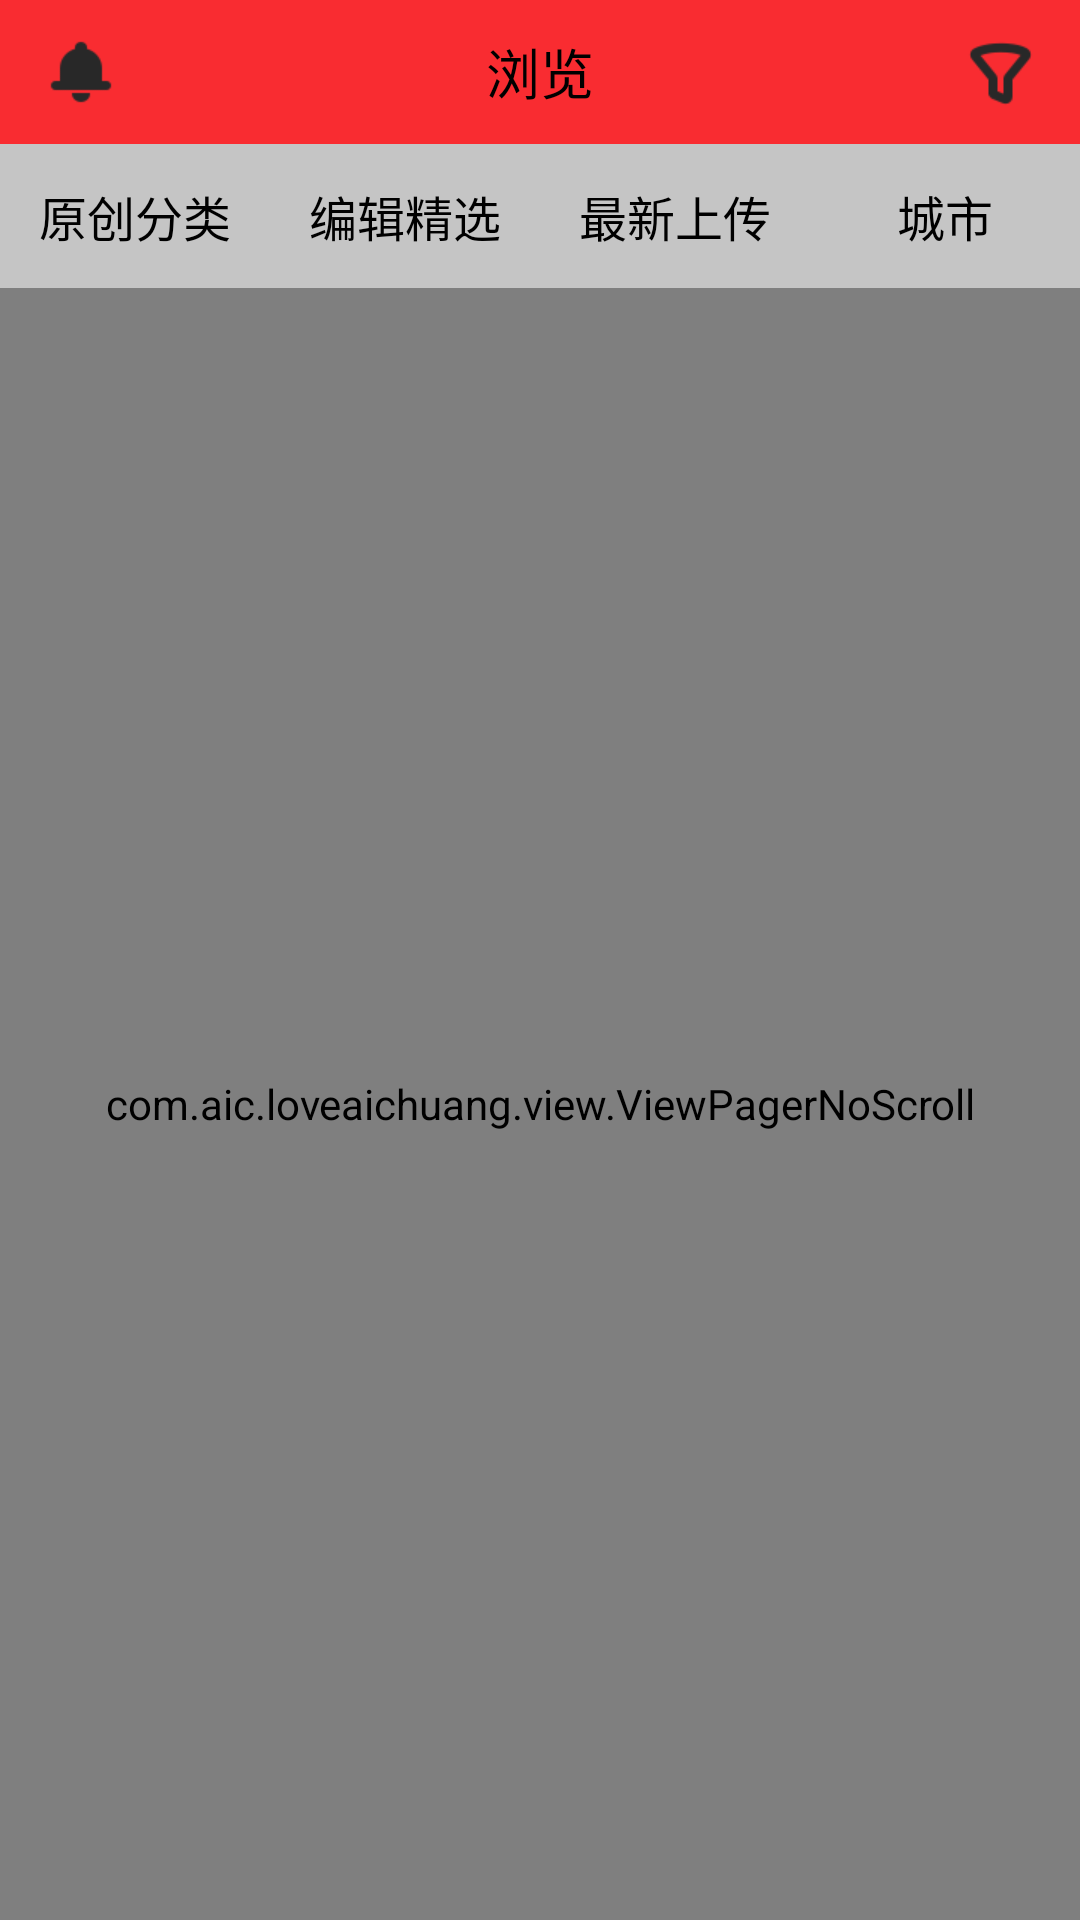

Where to tap for icons on this 1080px x 1920px app screen, as [x,y]:
zcool bar filter: [1000,73]
zcool bar message: [81,72]
